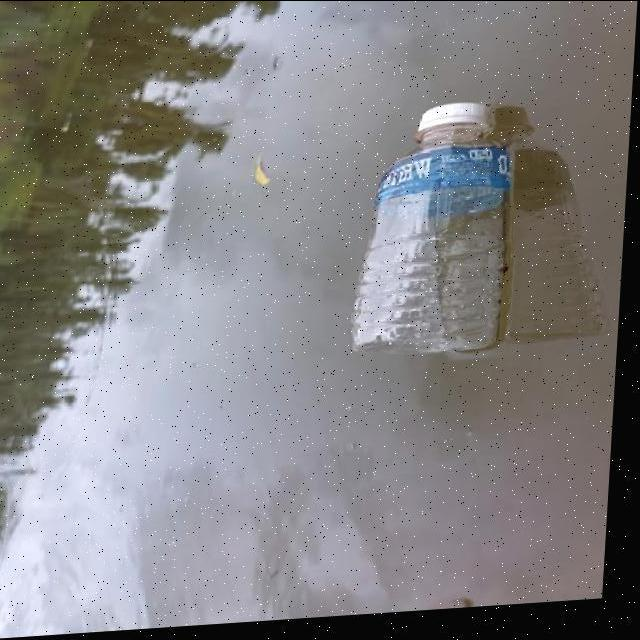Bottle: (340, 94, 520, 360)
